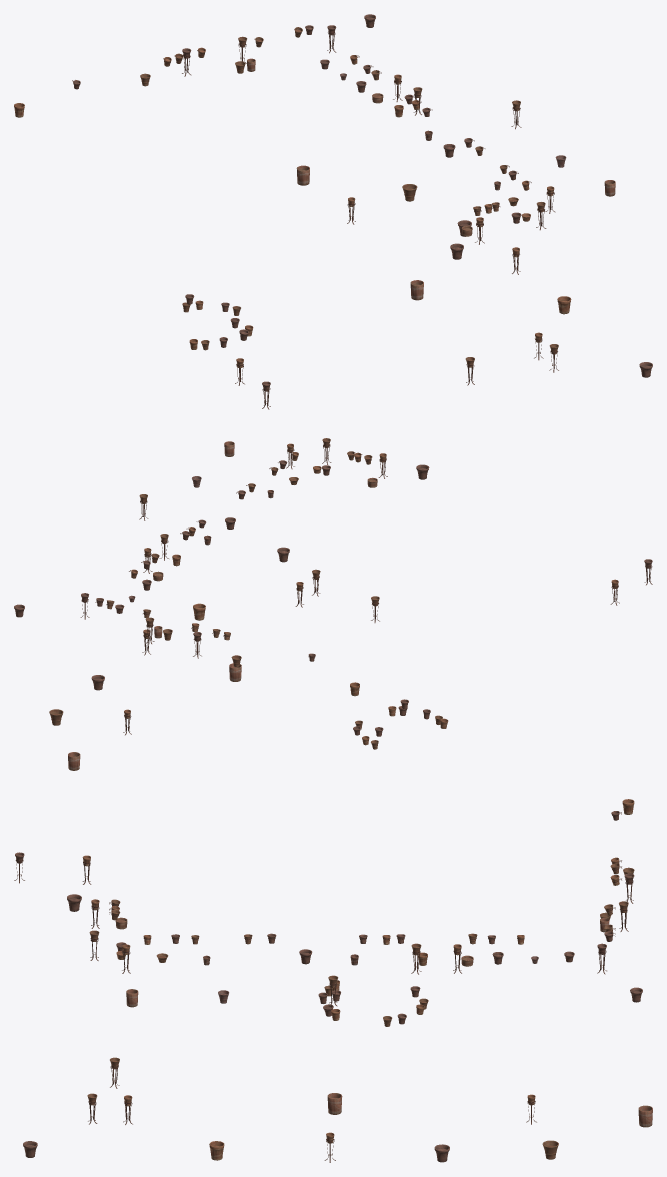
Rendered from pots.obj.
3 renders of one model, top to bottom at view 1: azimuth 30°, elevation 25°; view 2: azimuth 150°, elevation 25°; view 3: azimuth 270°, elevation 25°, orthographic. The views are drawn at different scales.
Parts seen in each view (by area): view 1: Mesh; view 2: Mesh; view 3: Mesh.
Part boxes in pixels (x1,y1,x2,y2): Mesh: (14, 14, 652, 409); Mesh: (14, 438, 652, 770); Mesh: (14, 799, 652, 1162).
Size of the model in its own units: 16.14 by 6.68 by 20.3.
8 materials, 8 textured.
